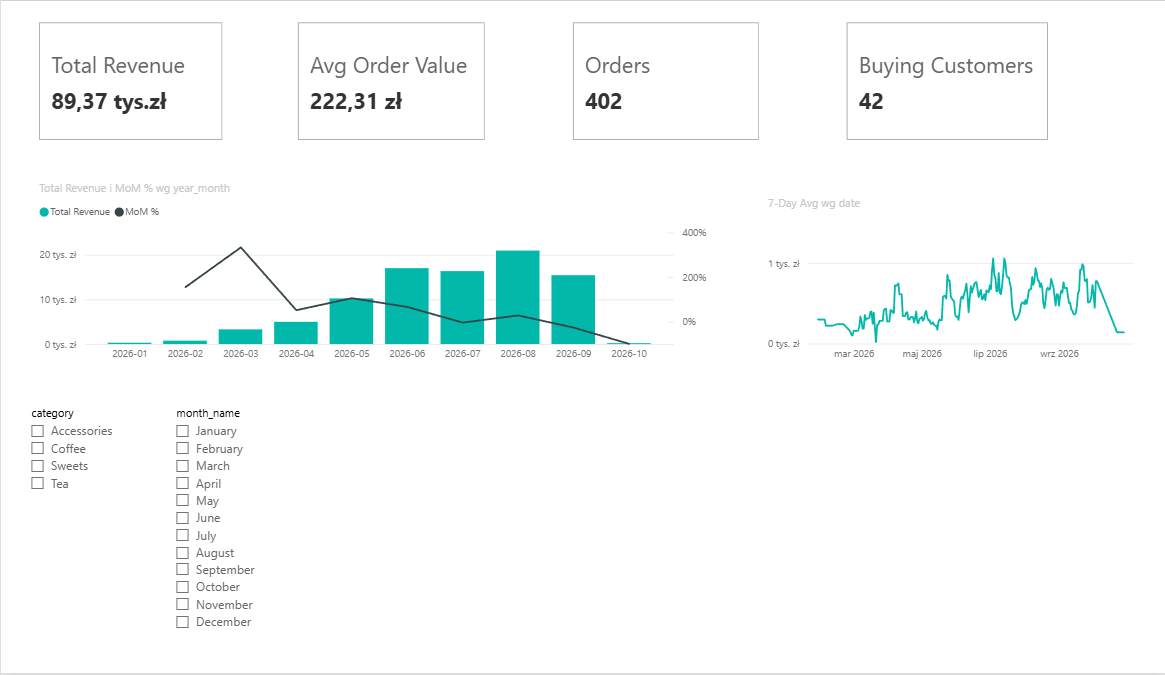

The page's visual inventory and layout, read from the dashboard file:
{"tool":"powerbi","page":{"name":"Overview","canvas":[1280,720],"ordinal":0},"visuals":[{"type":"cardVisual","fields":{"Data":["fact_sales.Total Revenue"]},"box":[37,0,211.3,140],"z":0},{"type":"cardVisual","fields":{"Data":["fact_sales.Orders"]},"box":[623,0,214.1,140],"z":1},{"type":"cardVisual","fields":{"Data":["fact_sales.Avg Order Value"]},"box":[321.1,0,215.4,140],"z":2},{"type":"cardVisual","fields":{"Data":["fact_sales.Buying Customers"]},"box":[923.5,0,231.9,140],"z":3},{"type":"lineClusteredColumnComboChart","fields":{"Category":["dim_date.year_month"],"Y":["fact_sales.Total Revenue"],"Y2":["fact_sales.MoM %"]},"box":[37,178.4,742.4,207.2],"z":4},{"type":"lineChart","fields":{"Category":["dim_date.date"],"Y":["fact_sales.7-Day Avg"]},"box":[837.1,194.9,422.6,190.7],"z":5},{"type":"slicer","fields":{"Values":["dim_product.category"]},"box":[20.6,419.9,122.1,123.5],"z":6},{"type":"slicer","fields":{"Values":["dim_date.month_name"]},"box":[179.8,419.9,281.3,262.1],"z":7}]}

Visuals, with their boxes in screenshot pixels (x1, y1, x2, y2), scaled from the page's 1280x720 canvas onto the 1165x675 screenshot:
cardVisual - fact_sales.Total Revenue: rect(34, 0, 226, 131)
cardVisual - fact_sales.Orders: rect(567, 0, 762, 131)
cardVisual - fact_sales.Avg Order Value: rect(292, 0, 488, 131)
cardVisual - fact_sales.Buying Customers: rect(841, 0, 1052, 131)
lineClusteredColumnComboChart - dim_date.year_month x fact_sales.Total Revenue: rect(34, 167, 709, 362)
lineChart - dim_date.date x fact_sales.7-Day Avg: rect(762, 183, 1147, 362)
slicer - dim_product.category: rect(19, 394, 130, 509)
slicer - dim_date.month_name: rect(164, 394, 420, 639)
